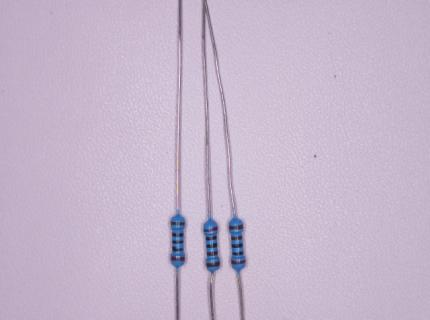Black band: (206, 243, 217, 248), (232, 243, 243, 248), (232, 251, 244, 255), (172, 233, 183, 237), (172, 247, 183, 251), (206, 236, 217, 240), (172, 241, 183, 244)
Brown band: (207, 261, 220, 267), (229, 224, 243, 229), (207, 251, 219, 256), (171, 221, 185, 225), (231, 235, 242, 240)
Red band: (204, 226, 218, 232), (231, 259, 245, 264), (171, 257, 185, 261)
